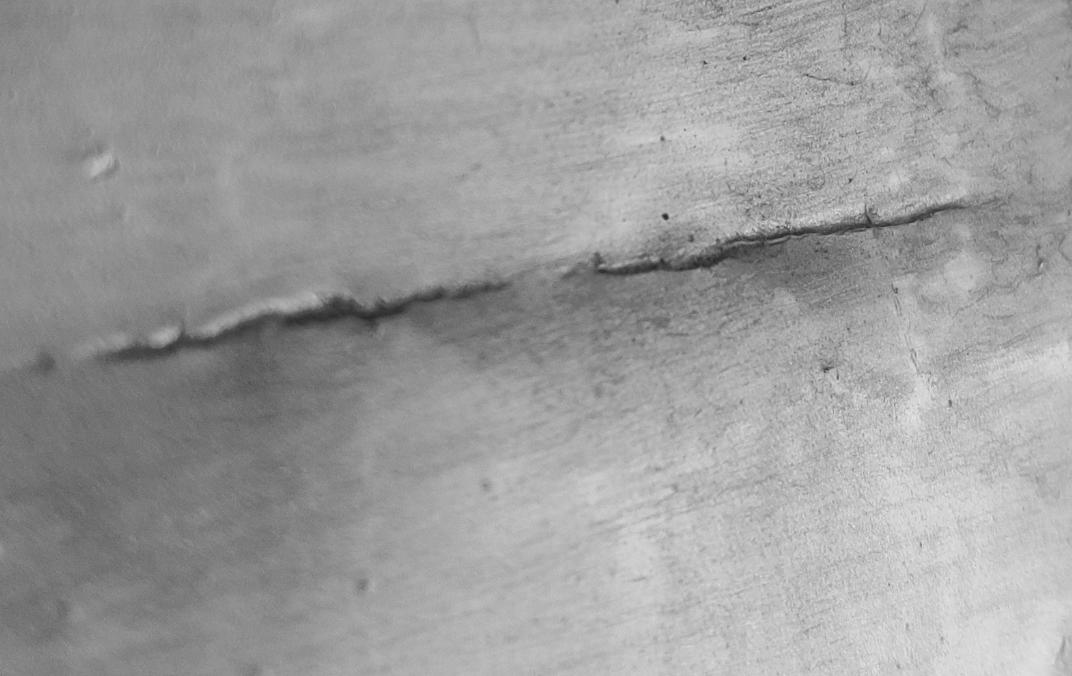scratch: (1, 0, 1072, 675)
